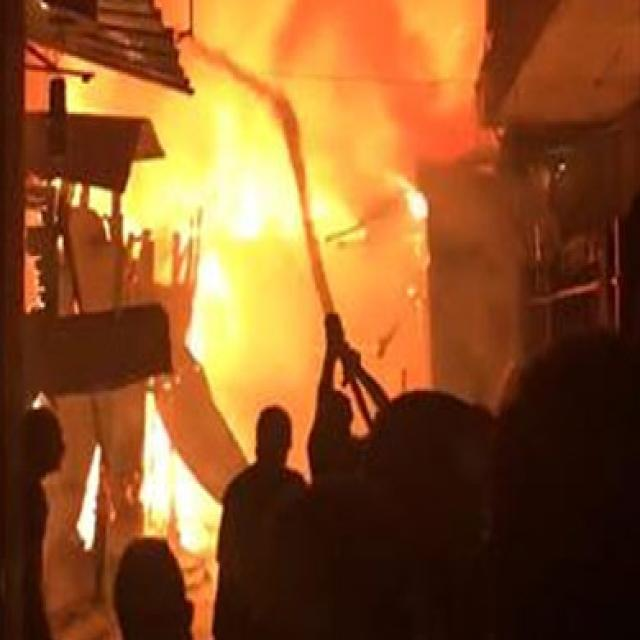Fire: (146, 113, 326, 237), (86, 411, 212, 542), (178, 237, 238, 362)
Smoke: (149, 0, 472, 154), (231, 246, 417, 440)
